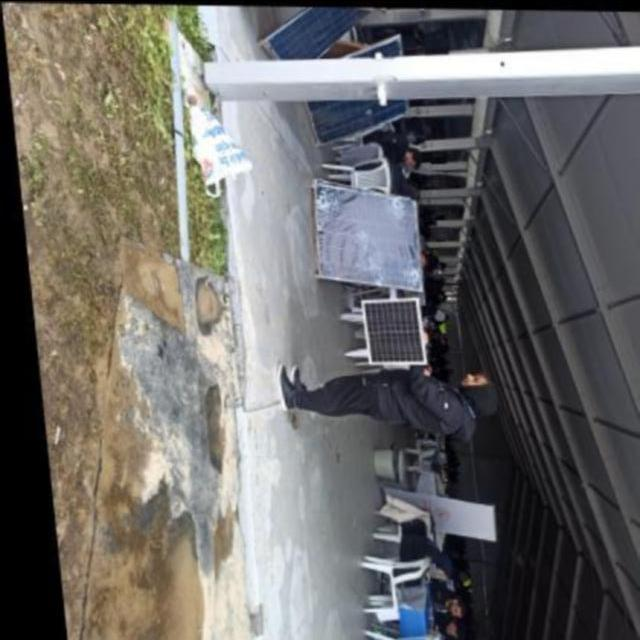cracked: (308, 181, 430, 291)
